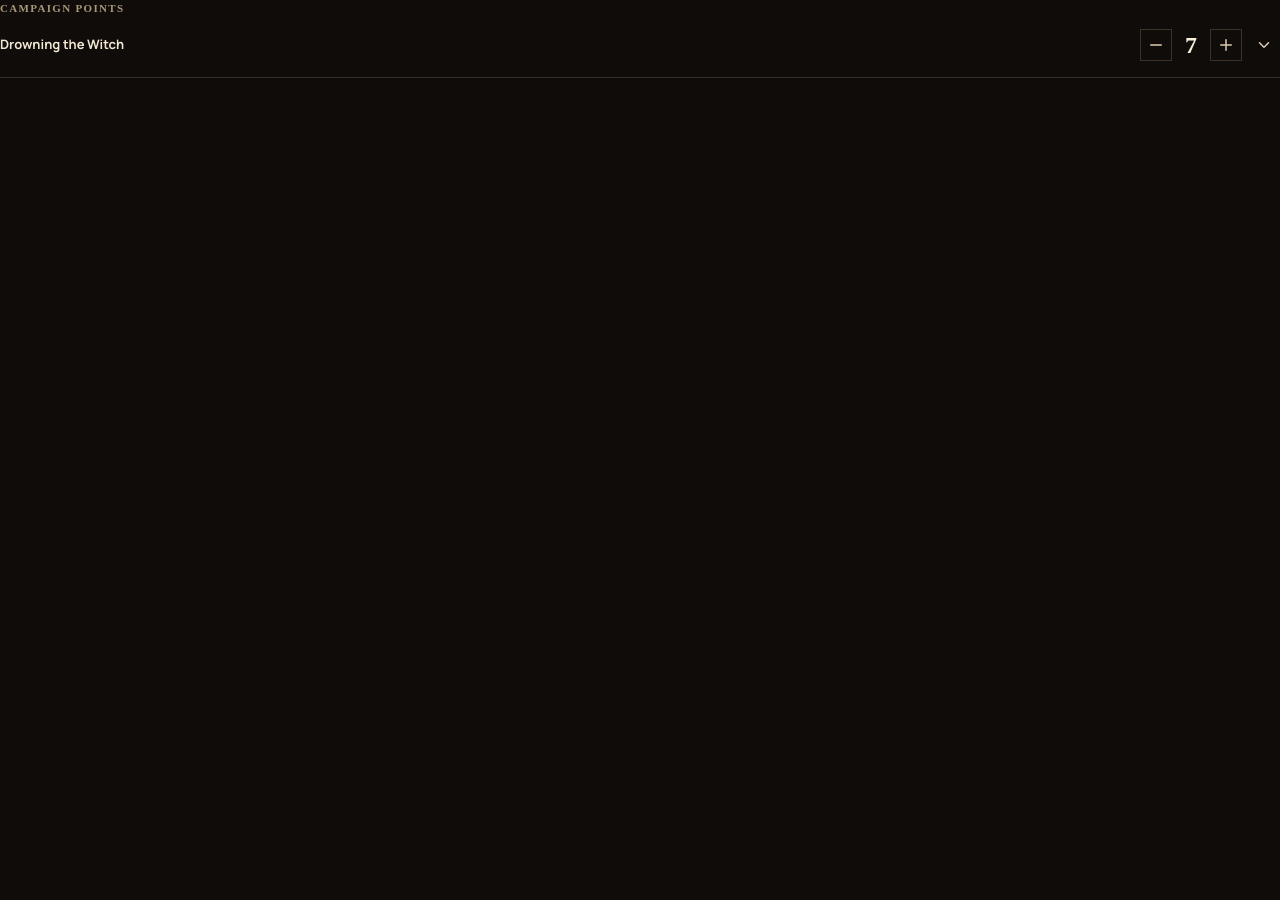
Scenario: the warband's campaign points › opens the plot's plan in Plot details, read only, the rungs reached marked
Step 1. Click the button named "Show the plot" → (1264, 44), box [1248,28,1279,60]
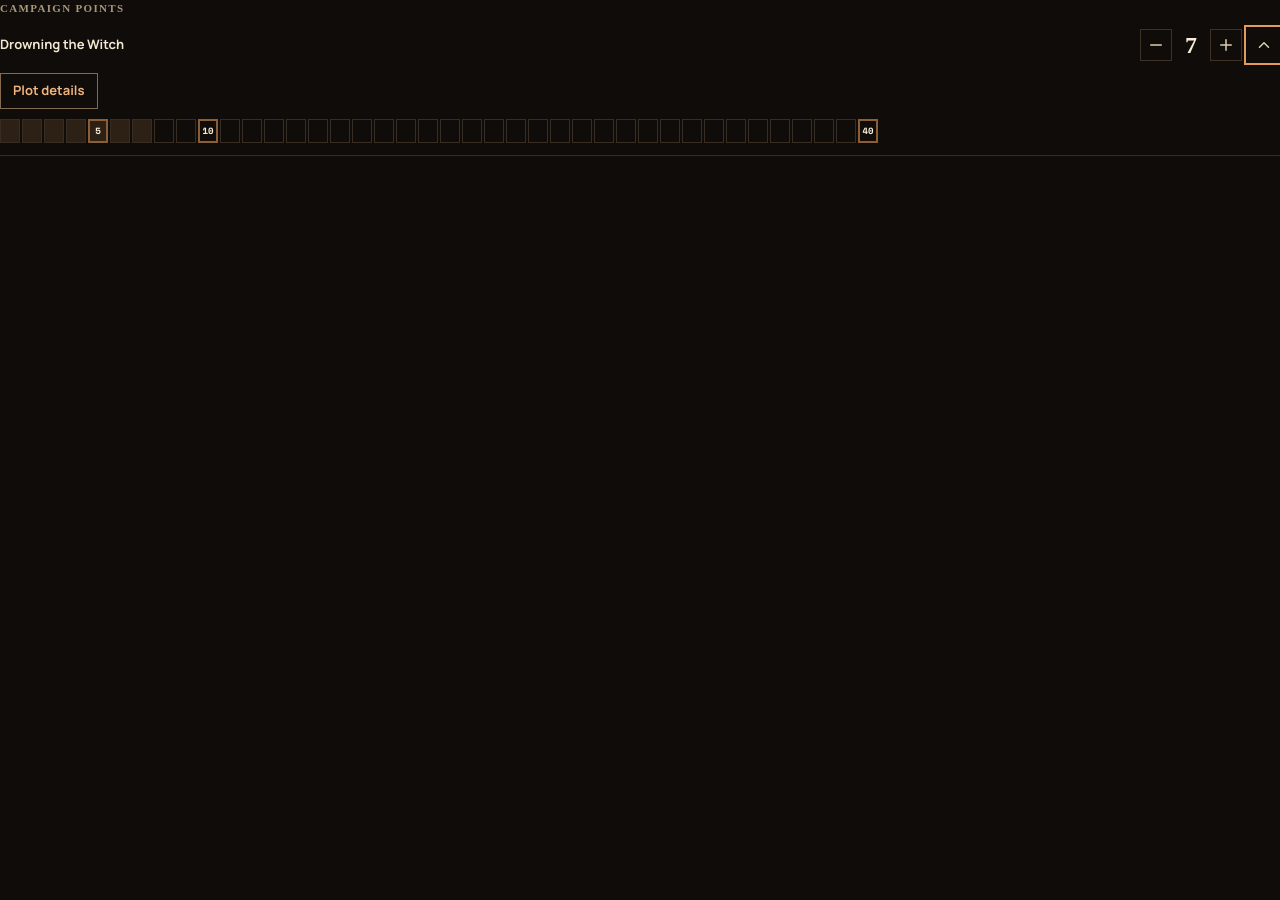
Step 2. Click the button "Plot details" → (49, 90), box [0,72,98,108]
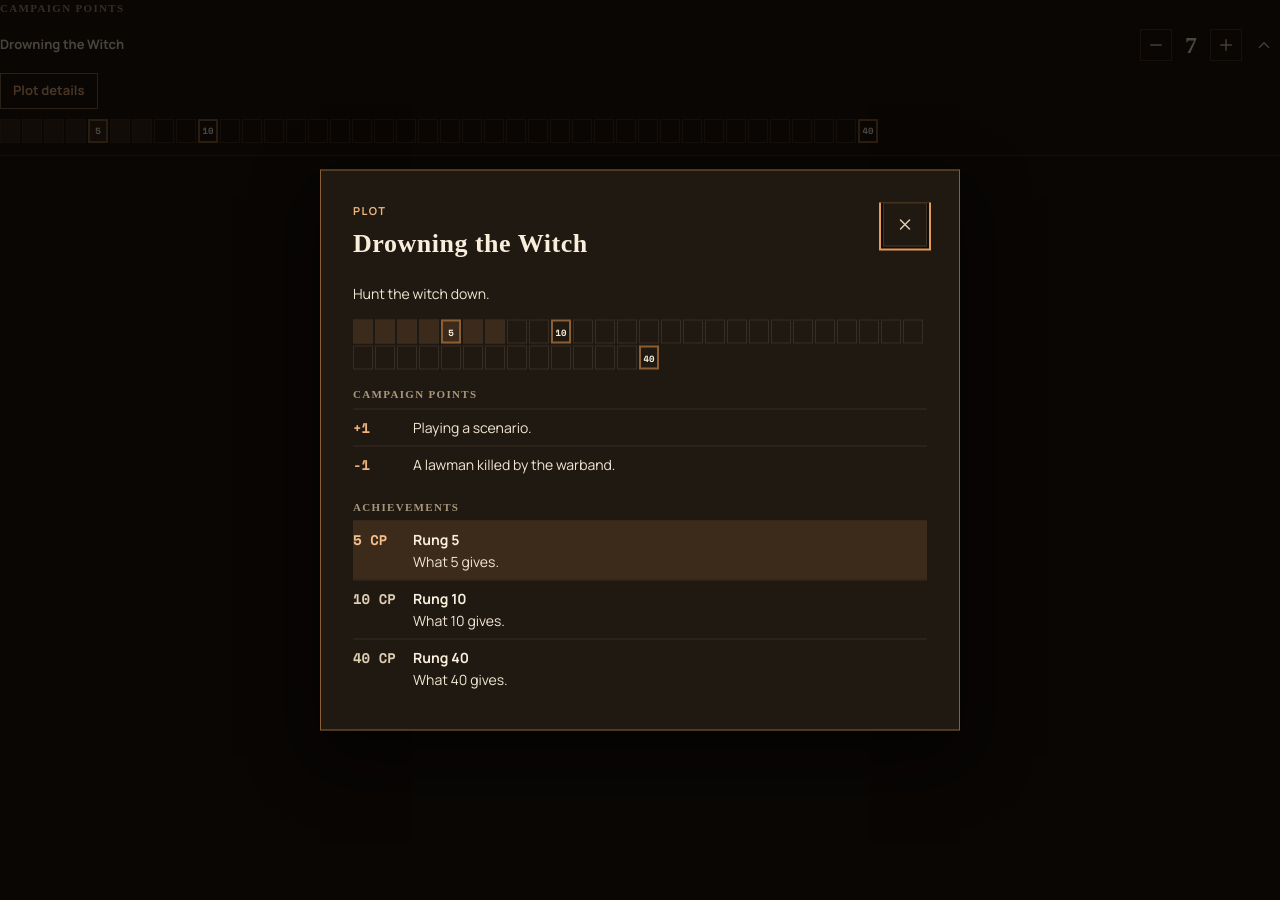
expect the text "Hunt the witch down." is shown: met, box [353,284,490,302]
expect the text "Playing a scenario." is shown: met, box [413,417,532,436]
expect the text "+1" is shown: met, box [353,416,370,437]
